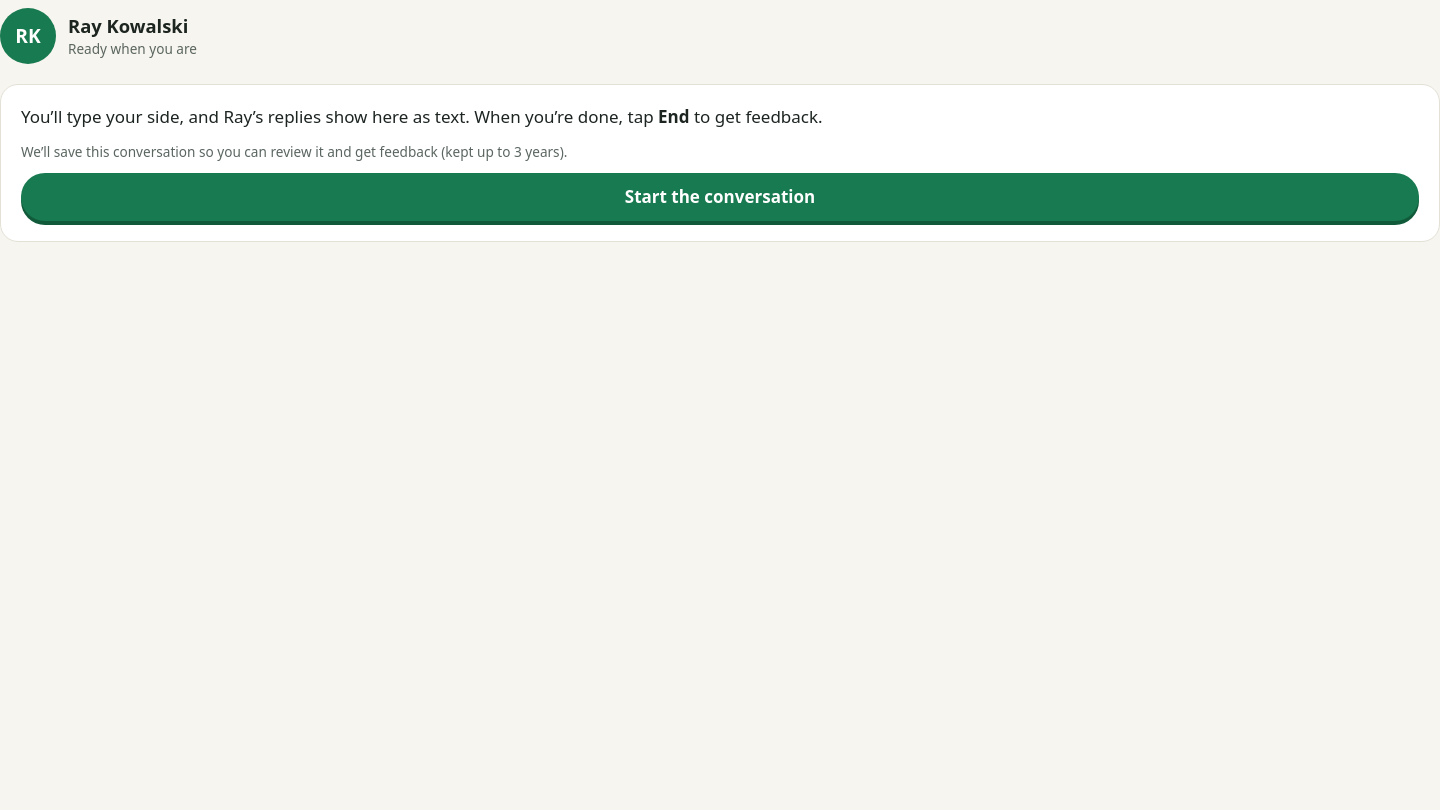
it: conversation screen › no mic known before the tap: the card says they’ll type, and one tap opens the text box
The image size is (1440, 810).
Expected: the text "You’ll type your side, and Ray’s replies show here as text" is shown, x1=21 y1=105 x2=823 y2=128
What coordinates should you click on to do the following:
click the button "Start the conversation"
I would click on:
 (720, 197)
Its box is x1=21 y1=173 x2=1419 y2=221.
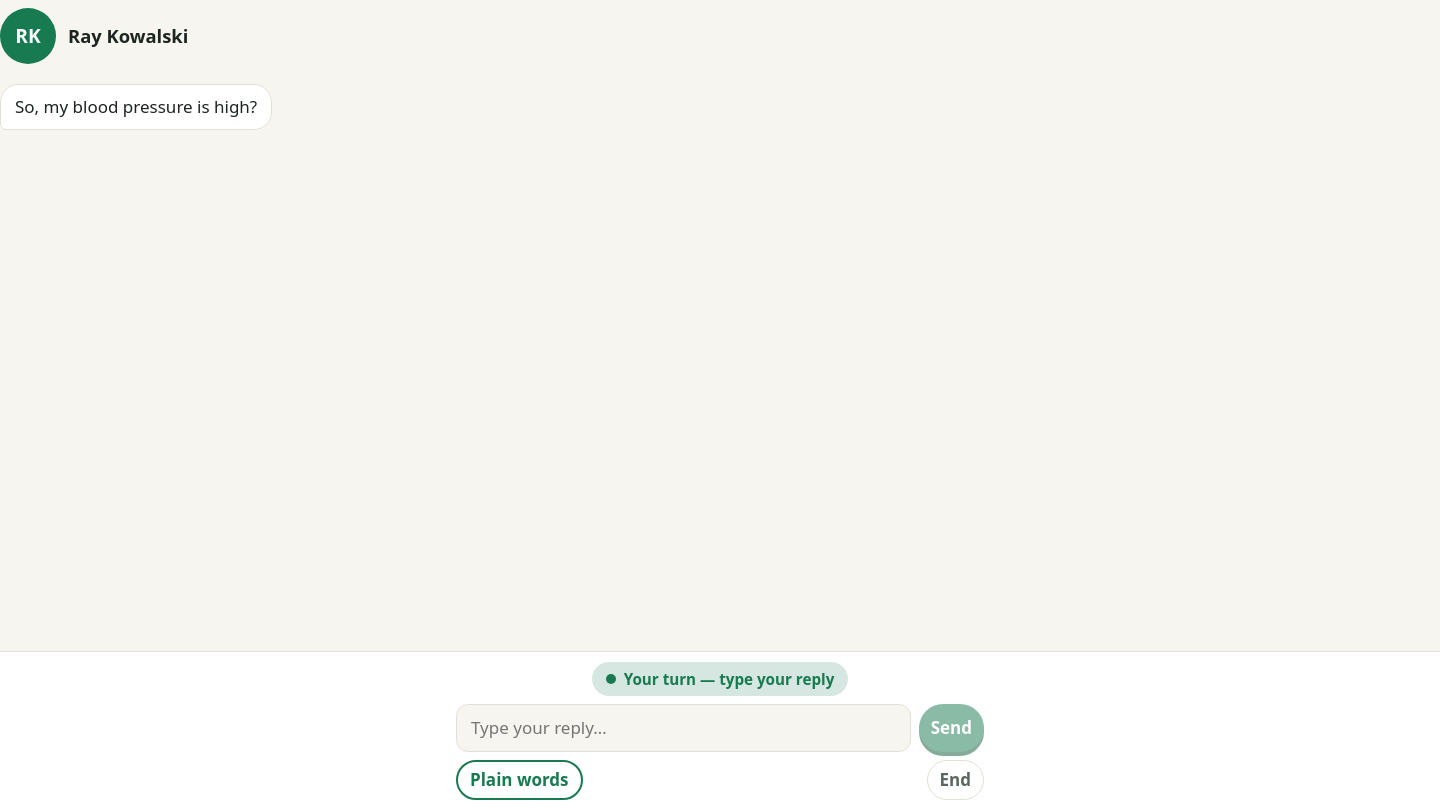
Expected: the field labelled "Type your reply…" is shown, x1=456 y1=704 x2=911 y2=752
Expected: the button "Start the conversation" is gone
